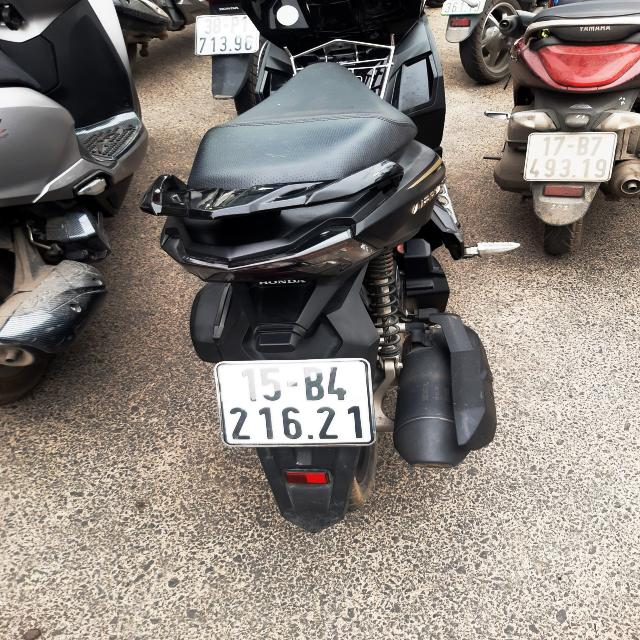license_plate: (207, 355, 389, 454), (519, 130, 625, 186), (188, 9, 268, 60)
